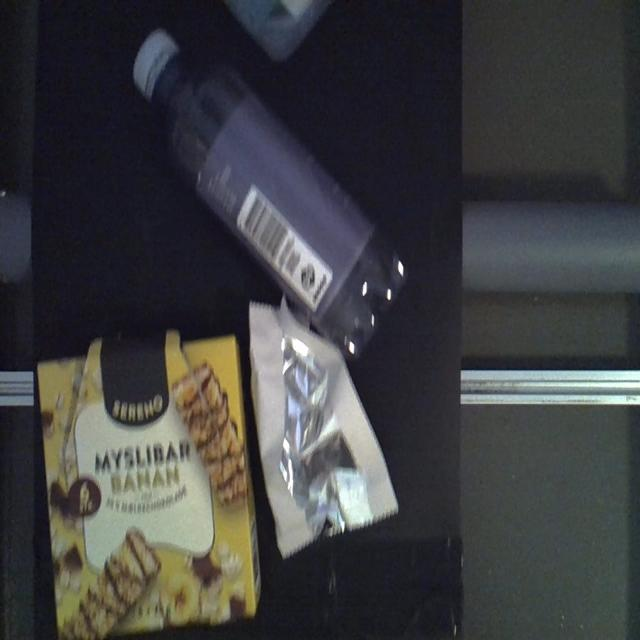bottle-plastic: (128, 24, 410, 362)
carton: (35, 327, 264, 635)
packaging-soft-plastic: (247, 308, 401, 562)
